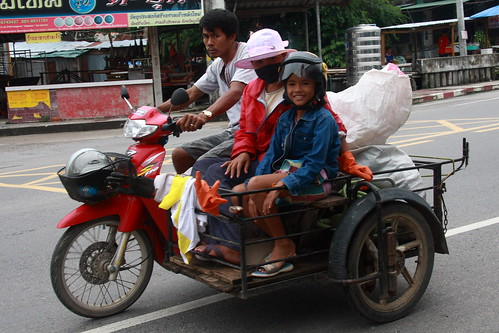helmet: (280, 51, 328, 81)
